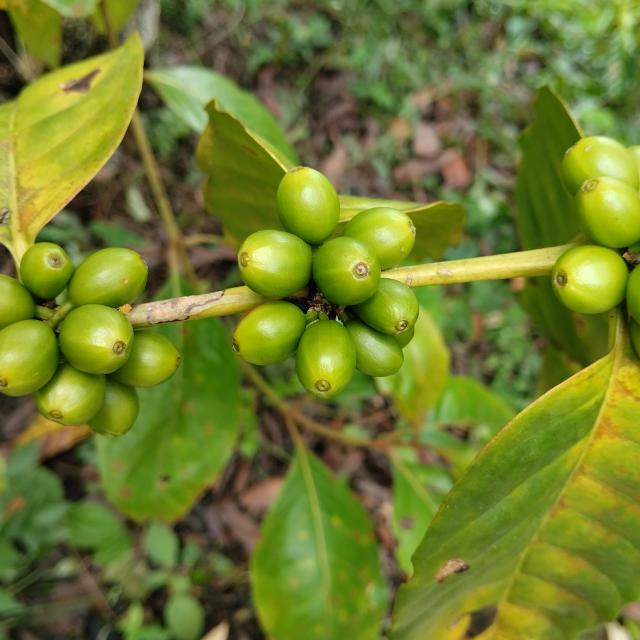green: (58, 304, 133, 375), (553, 245, 629, 314), (238, 229, 313, 297), (277, 166, 340, 244), (312, 236, 381, 305), (68, 248, 147, 308), (296, 320, 356, 399), (233, 301, 306, 365), (33, 362, 105, 426), (576, 176, 640, 248), (342, 207, 416, 269), (563, 136, 640, 195), (0, 319, 58, 397), (110, 330, 180, 387), (353, 278, 420, 335), (345, 319, 404, 377), (87, 377, 139, 438), (19, 242, 72, 299), (0, 274, 35, 330)
